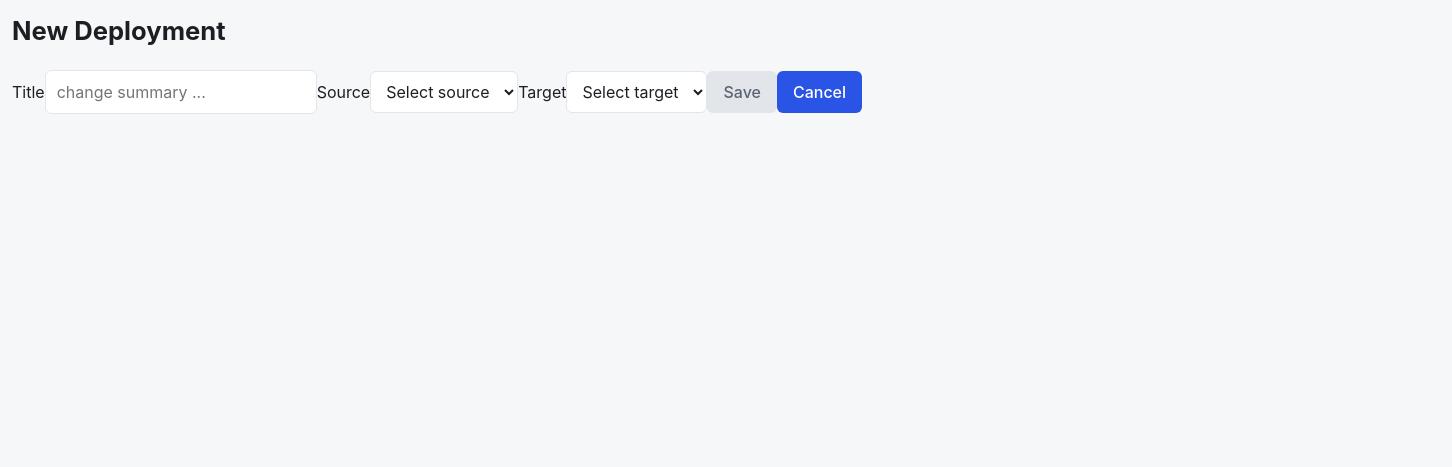
Test case: NewDeployment page › omits the title from the draft when left blank
Select "Dev" in the dropdown labelled "Source" at (444, 92), box [370, 71, 518, 113]
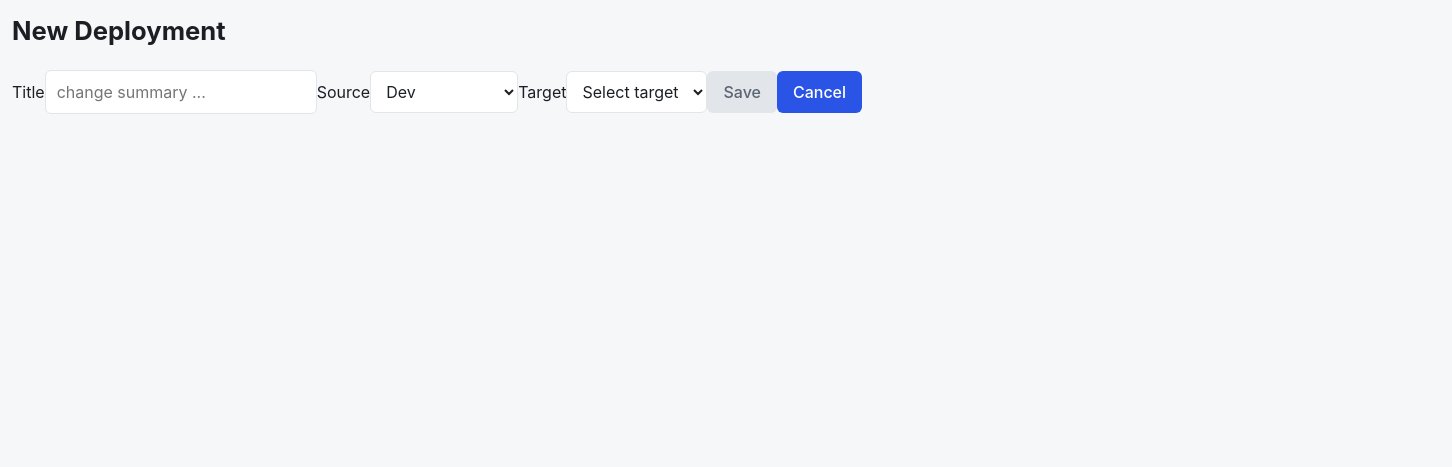
Select "QA" in the dropdown labelled "Target" at (637, 92), box [566, 71, 708, 113]
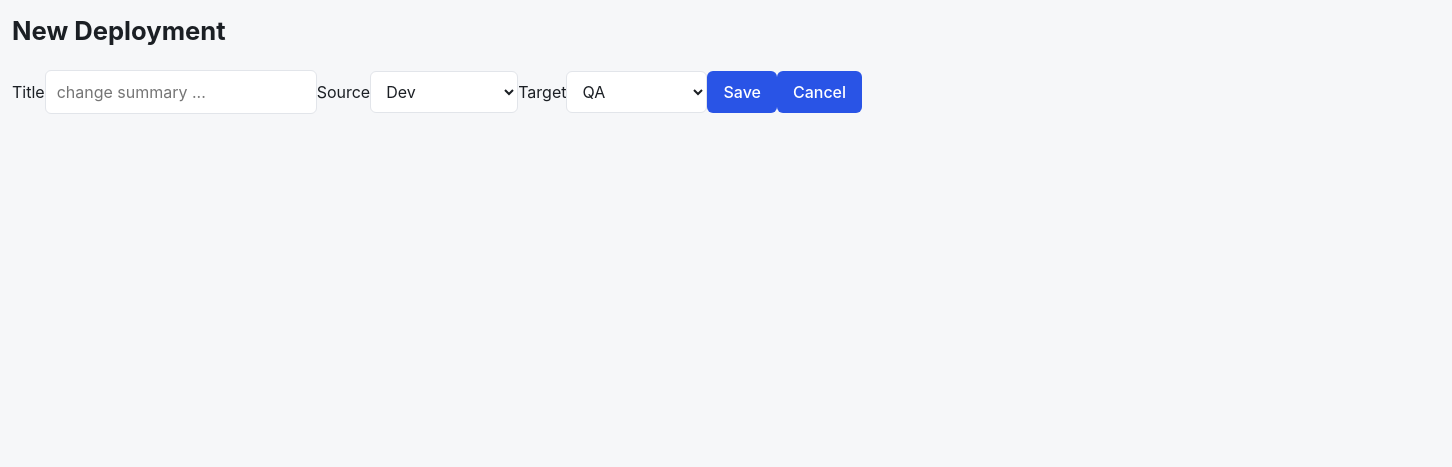
Click the button "Save".
click(742, 92)  # box [708, 71, 777, 113]
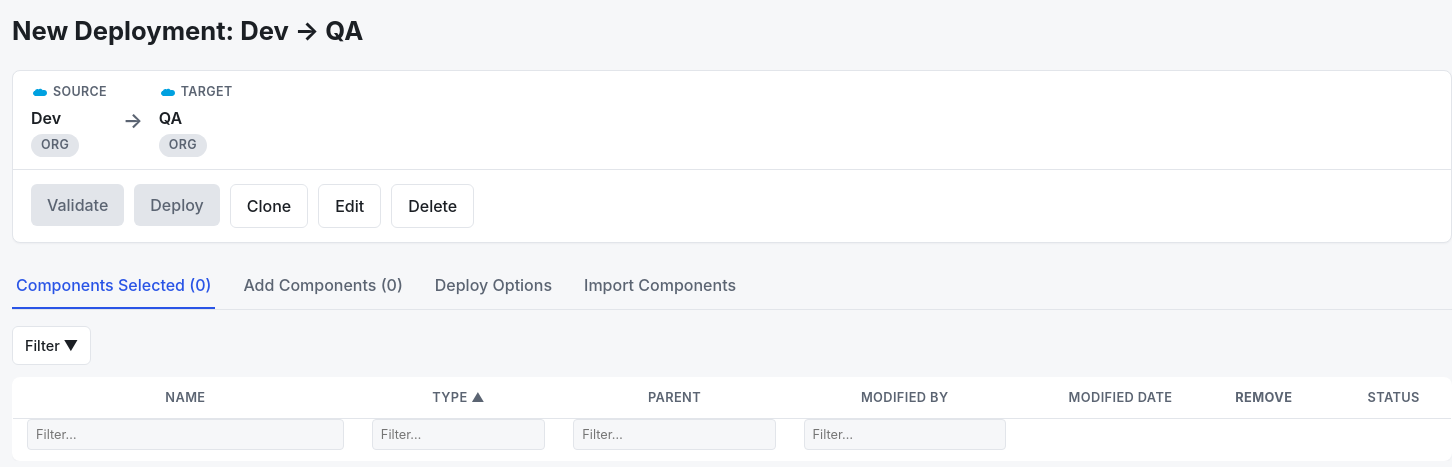
Expected: the tab "Components Selected (0)" is shown, [12, 263, 215, 309]
